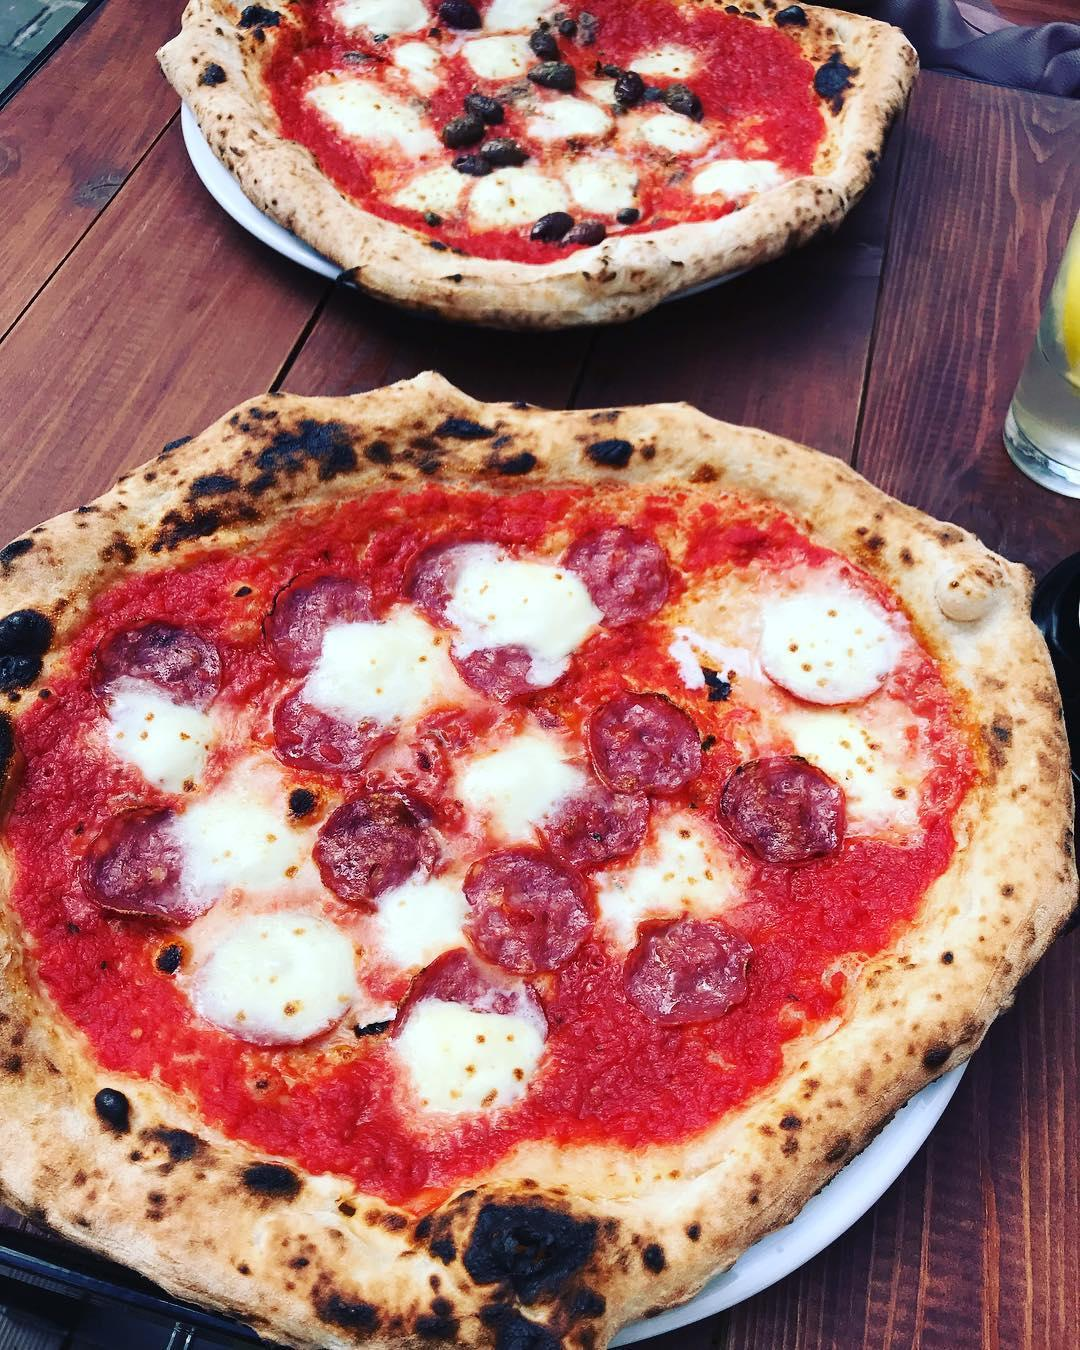Cheese: (208, 818, 315, 1026), (757, 593, 894, 681), (475, 566, 582, 651), (423, 1015, 522, 1101), (829, 712, 912, 807), (120, 703, 212, 782), (339, 635, 435, 709), (482, 741, 555, 814), (644, 840, 727, 905), (395, 897, 455, 949)
Olives: (528, 201, 582, 241), (665, 76, 706, 126), (433, 0, 485, 34), (530, 57, 575, 93), (480, 134, 530, 163), (466, 90, 508, 122), (636, 76, 677, 108), (451, 150, 496, 176), (569, 217, 608, 247), (529, 26, 563, 61), (441, 115, 480, 143), (614, 65, 638, 106), (555, 12, 582, 40), (597, 54, 624, 77)
Pepperoni: (463, 842, 590, 978), (723, 746, 856, 871), (315, 784, 440, 916), (72, 803, 191, 939), (625, 908, 756, 1029), (583, 674, 706, 799), (410, 948, 553, 1054), (90, 613, 226, 710), (525, 780, 659, 871), (262, 688, 391, 780), (566, 520, 677, 626), (259, 563, 375, 654), (449, 633, 564, 704), (407, 529, 473, 638)
Pizza: (4, 395, 1065, 1326), (177, 1, 918, 302)
